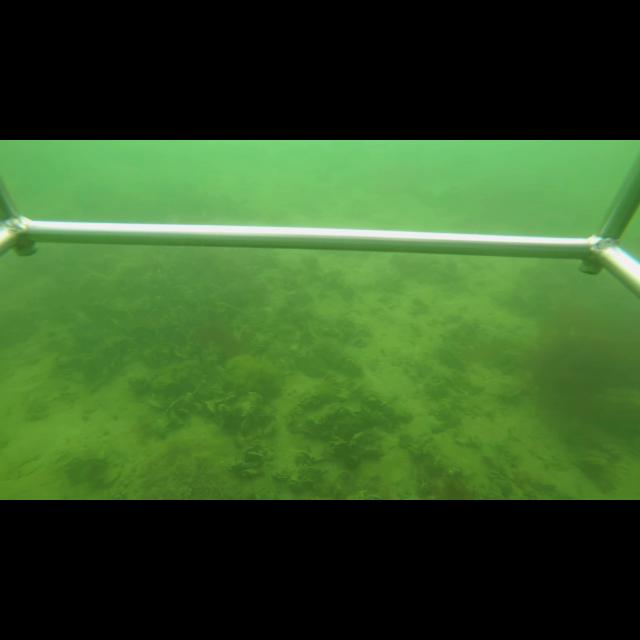Oyster-Closed: (147, 394, 170, 411)
